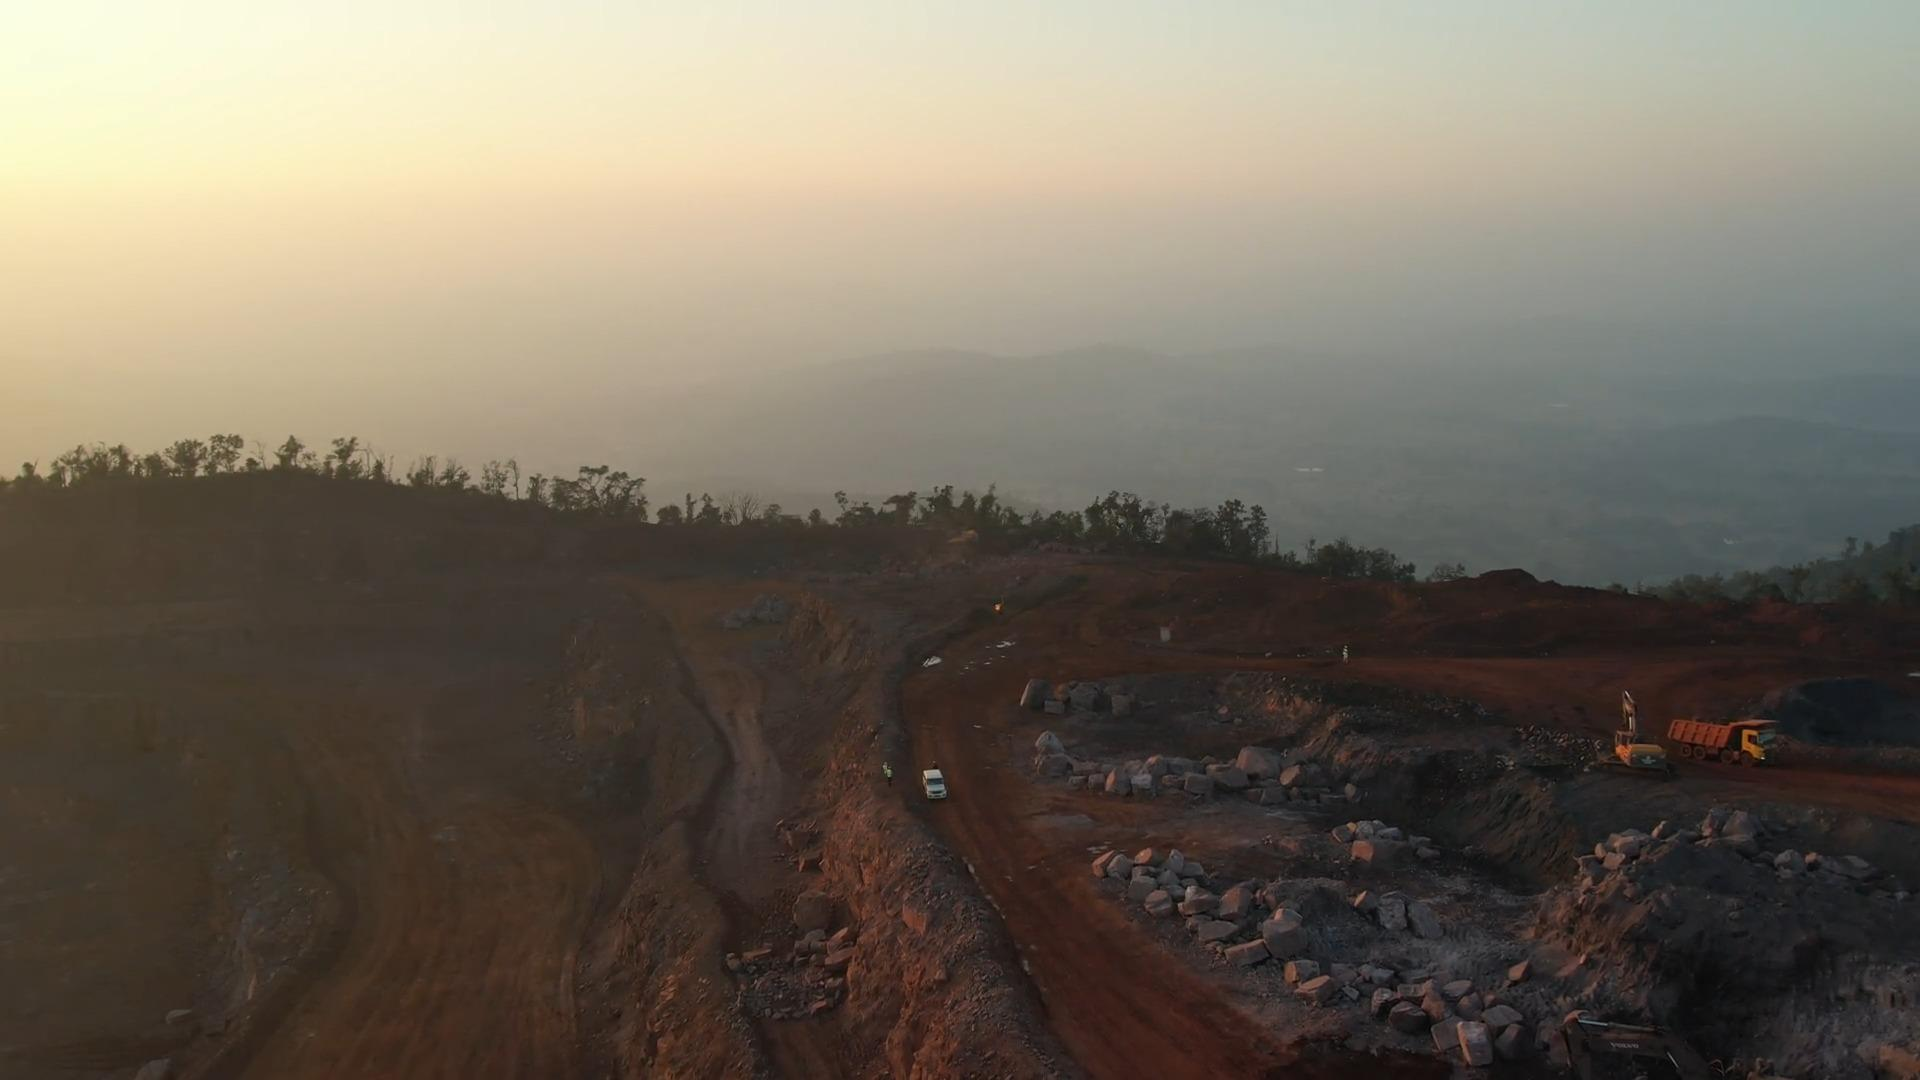excavator: (1617, 688, 1670, 779)
